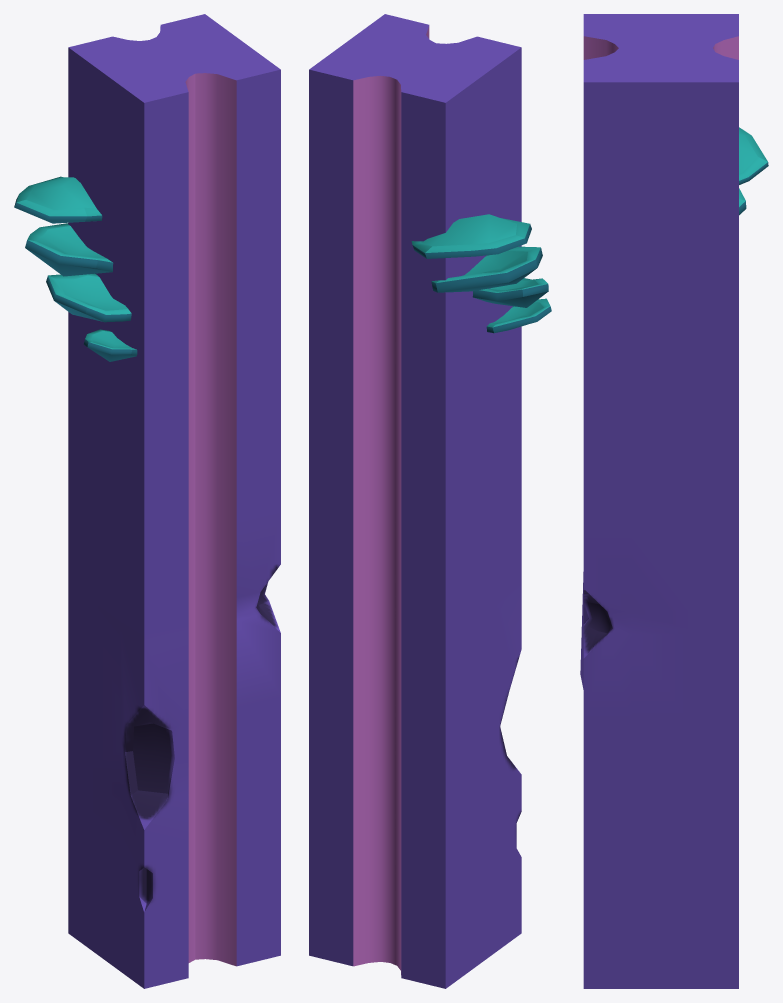
File: M_Pillar01.fbx
The picture shows the model from 3 angles, left to right: view 1: azimuth 30°, elevation 25°; view 2: azimuth 150°, elevation 25°; view 3: azimuth 270°, elevation 25°; orthographic projection. The views are drawn at different scales.
Visible parts, largest first — view 1: Box015; view 2: Box015; view 3: Box015.
Boxes of the visible parts, x1=… form: Box015: x1=14, y1=14, x2=280, y2=988; Box015: x1=309, y1=14, x2=551, y2=988; Box015: x1=580, y1=14, x2=768, y2=988.
Bounding box in the file's own units: 184 × 764 × 144.
